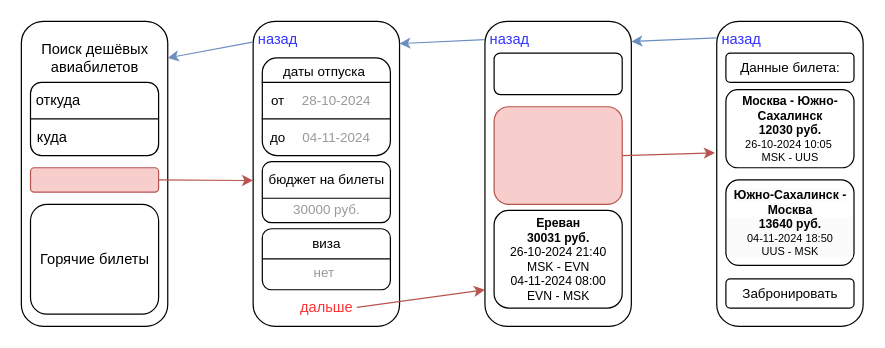
This 885x348 diagram has some shape labels left out. The centre of each missing label's shape, as x and y in pixels:
пока не знаю: the point at 94,179
Предлагаемые варианты:: the point at 557,73
Южно-Сахалинск 25670 руб. 26-10-2024 10:05 MSK - UUS 04-11-2024 18:50 UUS - MSK: the point at 557,155
